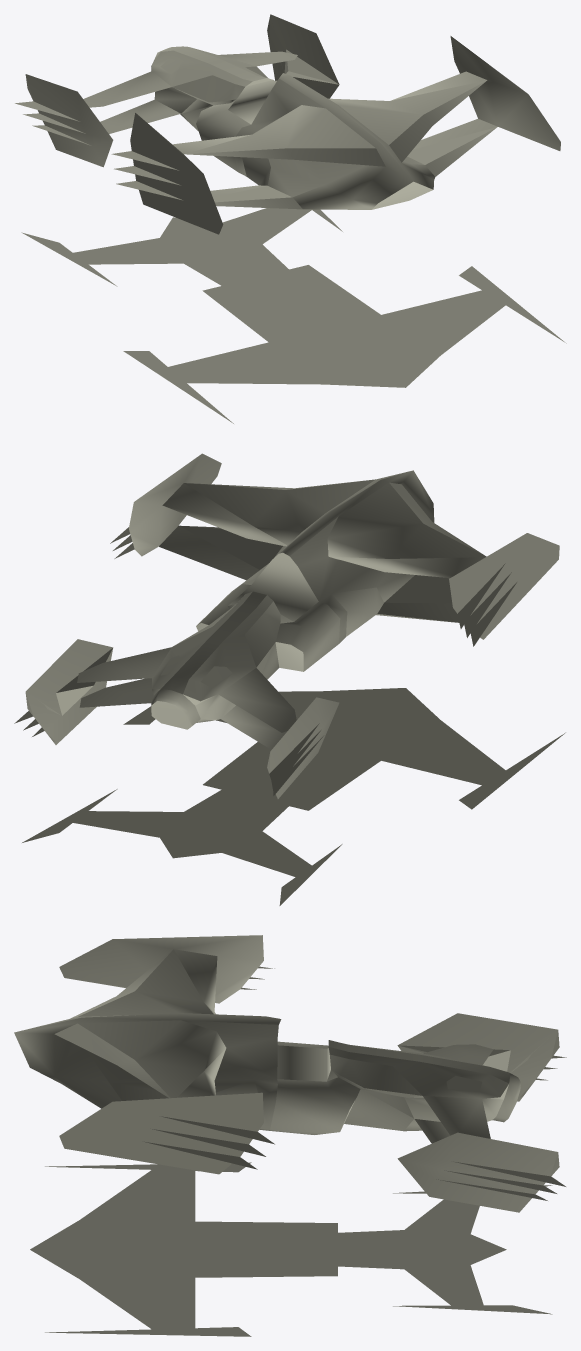
The model's file is icon.ico.obj.
3 renders of one model, top to bottom at view 1: azimuth 30°, elevation 25°; view 2: azimuth 150°, elevation 25°; view 3: azimuth 270°, elevation 25°, orthographic. The views are drawn at different scales.
Bounding box in the file's own units: 3.52 × 2.16 × 4.57.
